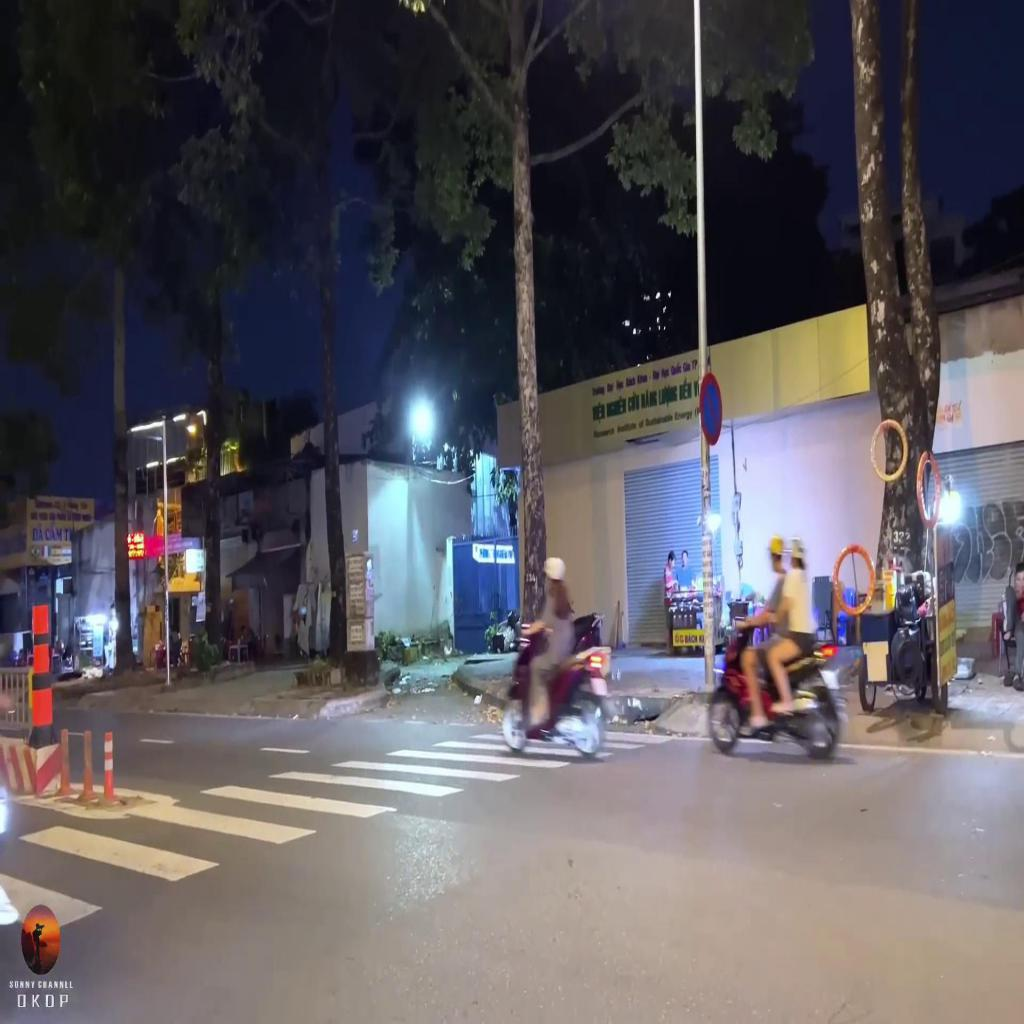cam_do_xe: (700, 374, 722, 446)
